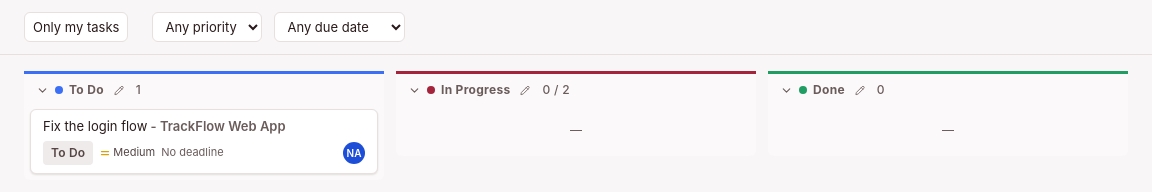
Test case: KanbanBoard › renames a column in place when renaming is allowed
Double-click the text "In Progress" at (476, 90), box [441, 81, 510, 99]
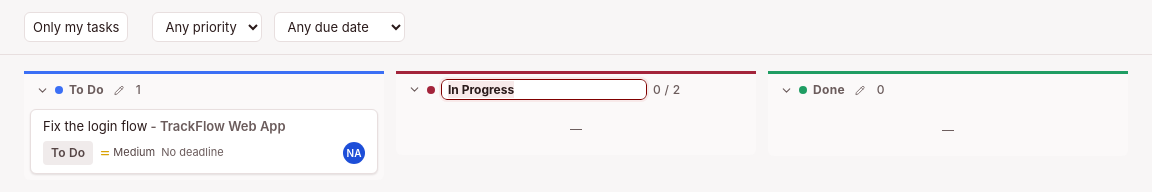
Replace the text in the field named "Column name" with "Doing" at (544, 90), box [441, 79, 647, 100]
Then press Enter
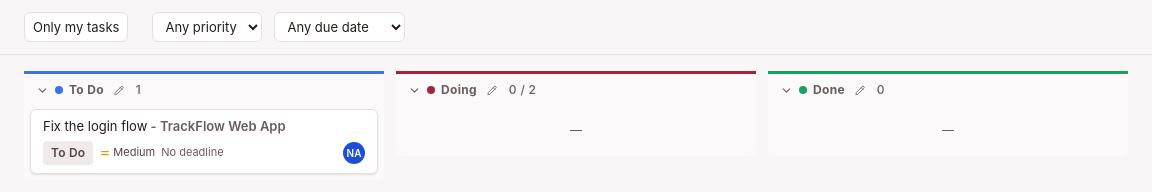
Expected: the text "Doing" is shown, [441, 81, 477, 99]
